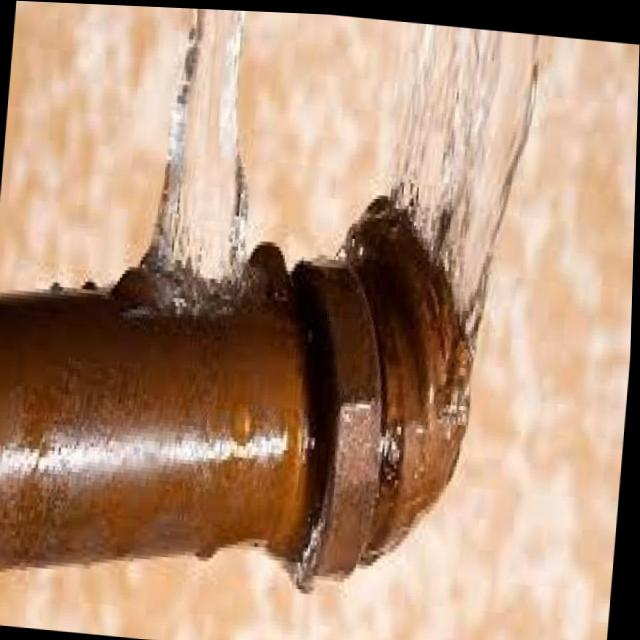leak: (119, 8, 567, 414)
